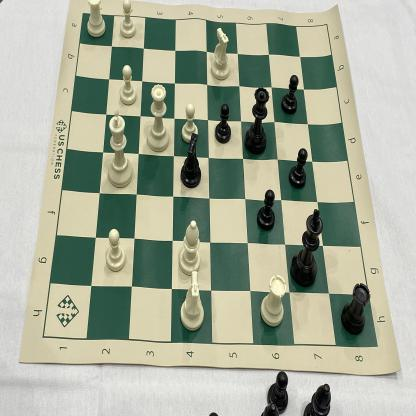black-king: (290, 208, 326, 289)
black-knight: (177, 132, 204, 189)
black-pawn: (286, 145, 309, 192), (280, 73, 300, 119), (257, 187, 277, 232), (214, 102, 232, 144)
black-queen: (244, 85, 271, 158)
black-rook: (339, 280, 372, 337)
white-bishop: (178, 218, 201, 277)
white-king: (106, 106, 134, 191)
white-knight: (178, 270, 207, 333), (209, 25, 232, 82)
white-pawn: (103, 227, 128, 273), (118, 63, 138, 107), (180, 102, 200, 144), (117, 0, 138, 40)
white-queen: (147, 81, 171, 154)
white-rook: (259, 271, 287, 329), (87, 0, 107, 41)
